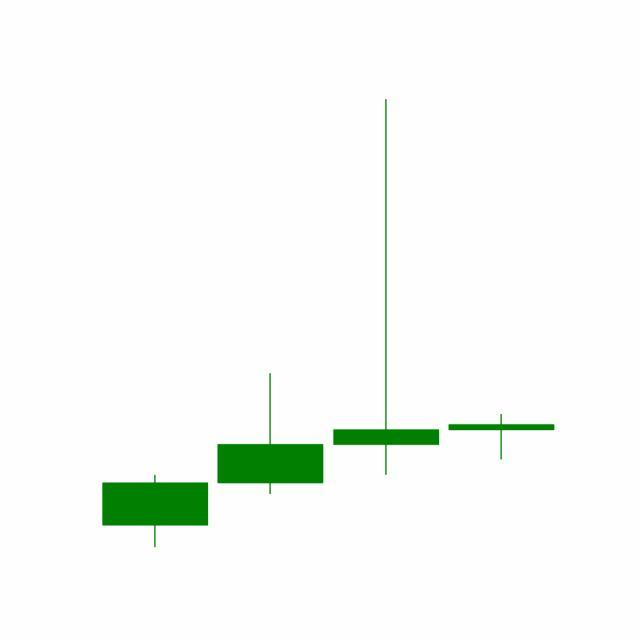Spinning Top: (329, 95, 445, 480)
